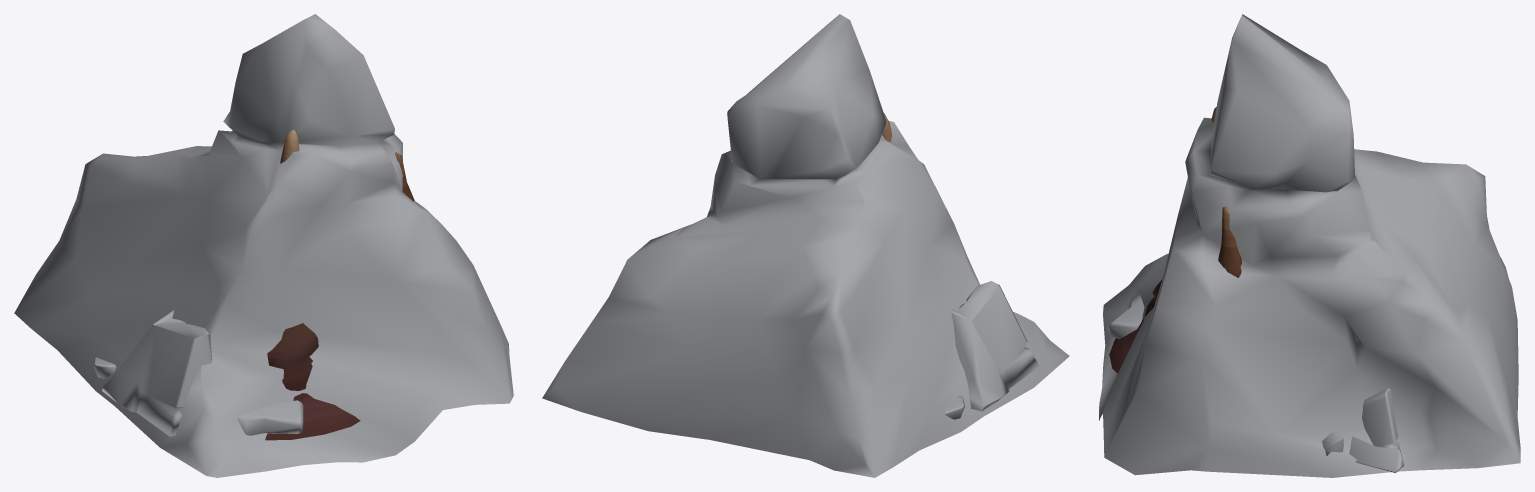
Rendered from Skybox_Outpost.glb.
3 views of the same model, side by side, from view 1: azimuth 30°, elevation 25°; view 2: azimuth 150°, elevation 25°; view 3: azimuth 270°, elevation 25° (orthographic). The views are drawn at different scales.
Parts seen in each view (by area): view 1: S_Skybox_Peaks_02, S_StoneLarge_01_Skybox, Prop_Stalagmite_Cluster_b; view 2: S_Skybox_Peaks_02, S_StoneLarge_01_Skybox; view 3: S_Skybox_Peaks_02, S_StoneLarge_01_Skybox, Prop_Stalagmite_Cluster_b.
Boxes of the visible parts, x1,y1,x2,y2 form: S_Skybox_Peaks_02: (14, 14, 513, 477); S_StoneLarge_01_Skybox: (93, 310, 303, 436); Prop_Stalagmite_Cluster_b: (265, 129, 414, 440); S_Skybox_Peaks_02: (542, 14, 1069, 477); S_StoneLarge_01_Skybox: (945, 281, 1039, 419); S_Skybox_Peaks_02: (1099, 14, 1520, 477); S_StoneLarge_01_Skybox: (1108, 294, 1403, 473); Prop_Stalagmite_Cluster_b: (1109, 107, 1241, 373).
Size of what is drawn, in the model's own units: 1.15 by 1.15 by 1.1.
Materials: 2 (1 with a texture image).
